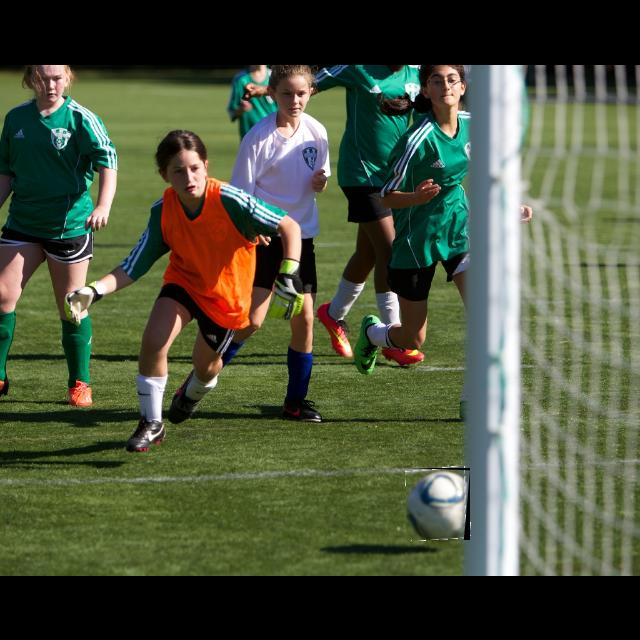Football: (406, 468, 470, 540)
